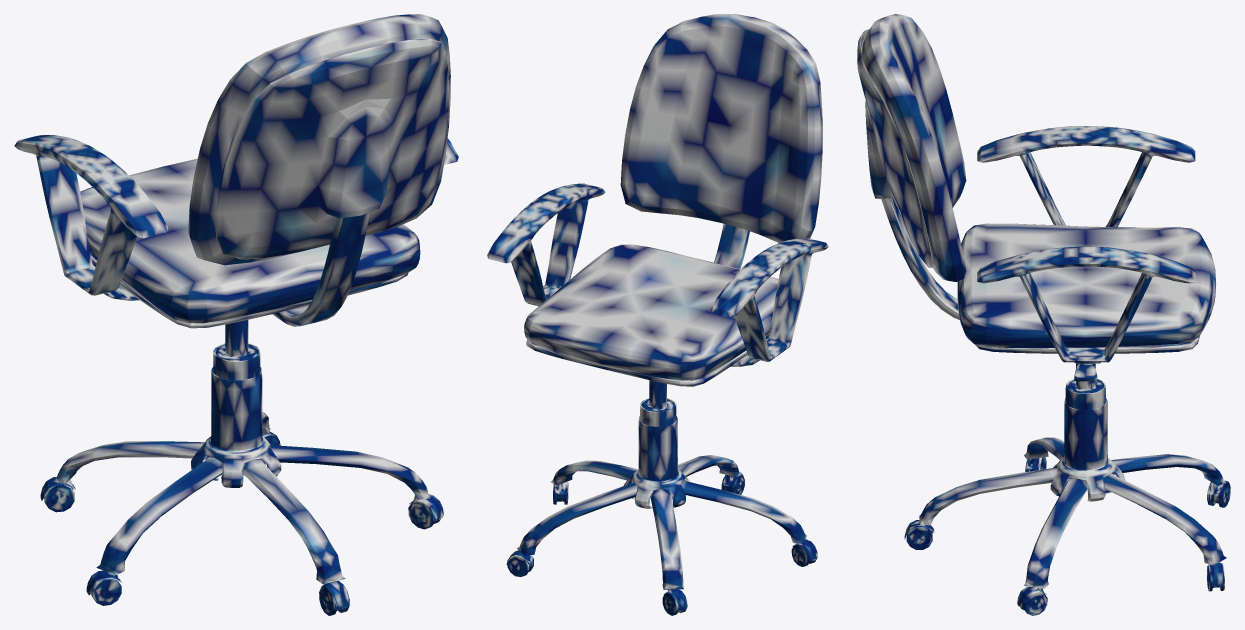
The model's file is chair5_final400.obj.
3 views of the same model, side by side, from view 1: azimuth 30°, elevation 25°; view 2: azimuth 150°, elevation 25°; view 3: azimuth 270°, elevation 25° (orthographic). The views are drawn at different scales.
Bounding box in the file's own units: 0.7976 × 1.33 × 0.8717.
